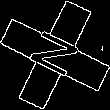N_SE: (23, 26, 87, 84)
